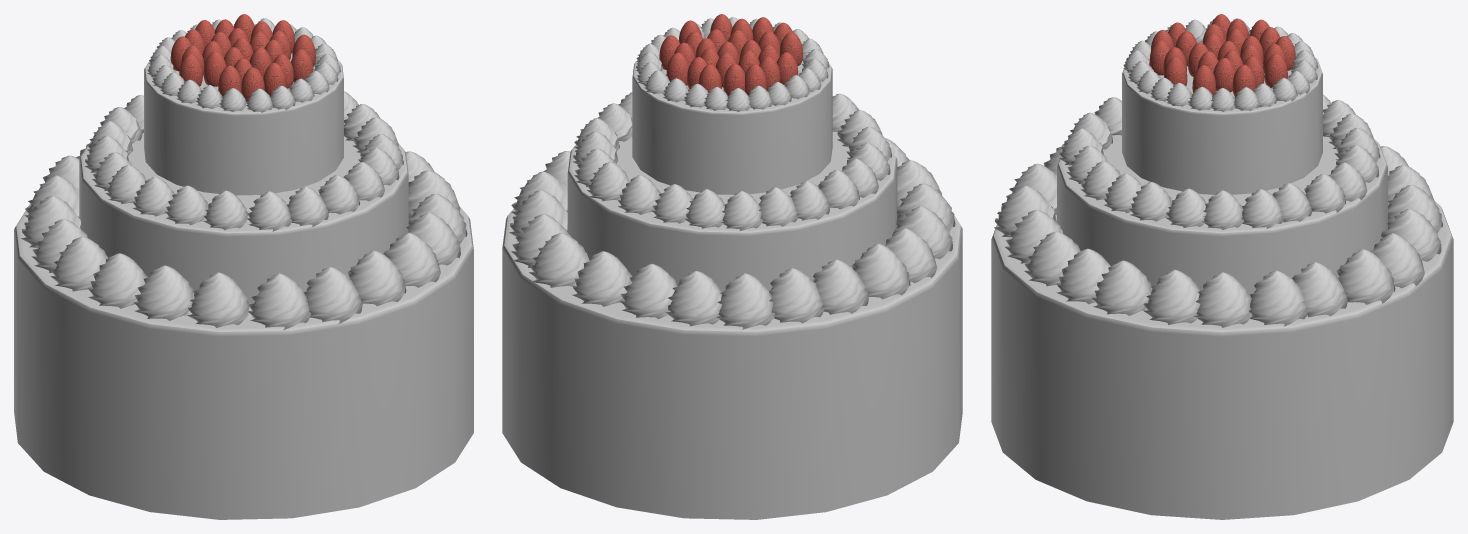
The model's file is Cake_White_BIG.fbx.
The picture shows the model from 3 angles, left to right: view 1: azimuth 30°, elevation 25°; view 2: azimuth 150°, elevation 25°; view 3: azimuth 270°, elevation 25°; orthographic projection.
Parts seen in each view (by area): view 1: Candle:Candle:Cake_white_BIG; view 2: Candle:Candle:Cake_white_BIG; view 3: Candle:Candle:Cake_white_BIG.
Boxes of the visible parts, box(x1,y1,x2,y2) form: Candle:Candle:Cake_white_BIG: box(14, 14, 473, 519); Candle:Candle:Cake_white_BIG: box(502, 14, 962, 519); Candle:Candle:Cake_white_BIG: box(991, 14, 1453, 519).
Bounding box in the file's own units: 3.84 × 3.51 × 3.84.
